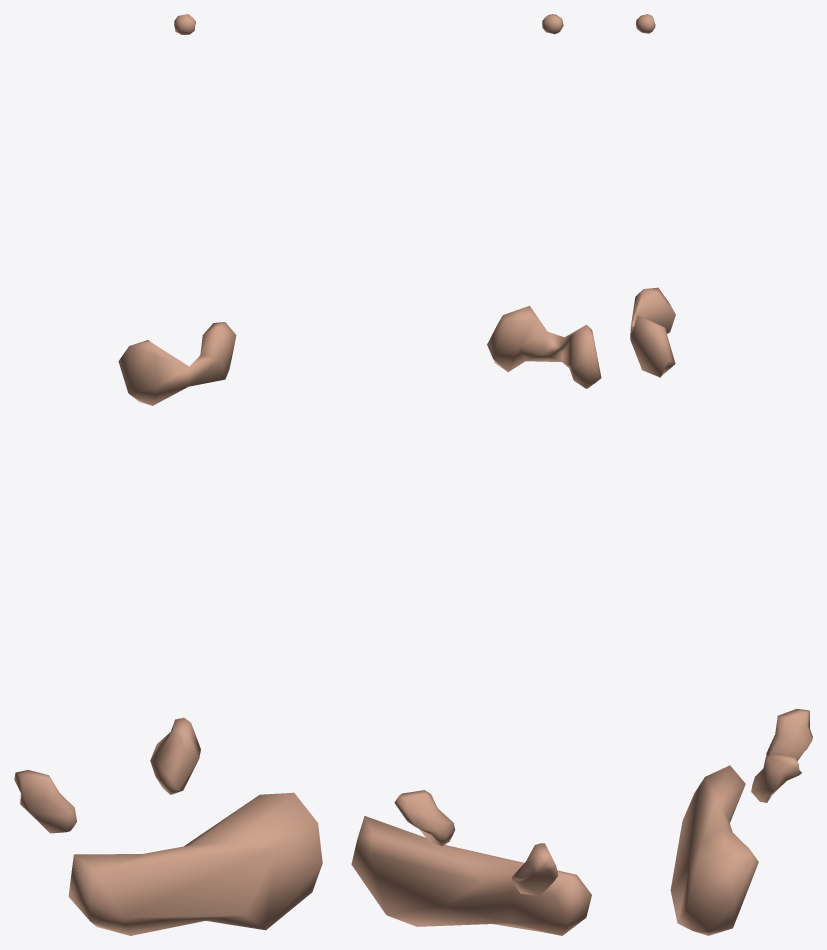
File: pediatric_adolescent_female.endocrine.LOD3.glb
3 views of the same model, side by side, from view 1: azimuth 30°, elevation 25°; view 2: azimuth 150°, elevation 25°; view 3: azimuth 270°, elevation 25° (orthographic). The views are drawn at different scales.
Visible parts, largest first — view 1: PEDIATRIC.ADOLESCENT.FEMALE.ENDOCRINE.PANCREAS, PEDIATRIC.ADOLESCENT.FEMALE.ENDOCRINE.THYROID, PEDIATRIC.ADOLESCENT.FEMALE.ENDOCRINE.ADRENAL.L, PEDIATRIC.ADOLESCENT.FEMALE.ENDOCRINE.ADRENAL.R; view 2: PEDIATRIC.ADOLESCENT.FEMALE.ENDOCRINE.PANCREAS, PEDIATRIC.ADOLESCENT.FEMALE.ENDOCRINE.THYROID, PEDIATRIC.ADOLESCENT.FEMALE.ENDOCRINE.ADRENAL.L, PEDIATRIC.ADOLESCENT.FEMALE.ENDOCRINE.ADRENAL.R; view 3: PEDIATRIC.ADOLESCENT.FEMALE.ENDOCRINE.PANCREAS, PEDIATRIC.ADOLESCENT.FEMALE.ENDOCRINE.THYROID, PEDIATRIC.ADOLESCENT.FEMALE.ENDOCRINE.ADRENAL.R, PEDIATRIC.ADOLESCENT.FEMALE.ENDOCRINE.ADRENAL.L.
Part boxes in pixels (x1,y1,x2,y2): PEDIATRIC.ADOLESCENT.FEMALE.ENDOCRINE.PANCREAS: (68, 792, 322, 935); PEDIATRIC.ADOLESCENT.FEMALE.ENDOCRINE.THYROID: (118, 322, 236, 405); PEDIATRIC.ADOLESCENT.FEMALE.ENDOCRINE.ADRENAL.L: (150, 717, 200, 794); PEDIATRIC.ADOLESCENT.FEMALE.ENDOCRINE.ADRENAL.R: (14, 770, 76, 833); PEDIATRIC.ADOLESCENT.FEMALE.ENDOCRINE.PANCREAS: (351, 816, 591, 935); PEDIATRIC.ADOLESCENT.FEMALE.ENDOCRINE.THYROID: (487, 305, 601, 388); PEDIATRIC.ADOLESCENT.FEMALE.ENDOCRINE.ADRENAL.L: (394, 790, 454, 846); PEDIATRIC.ADOLESCENT.FEMALE.ENDOCRINE.ADRENAL.R: (511, 843, 558, 895); PEDIATRIC.ADOLESCENT.FEMALE.ENDOCRINE.PANCREAS: (670, 765, 758, 935); PEDIATRIC.ADOLESCENT.FEMALE.ENDOCRINE.THYROID: (630, 287, 675, 377); PEDIATRIC.ADOLESCENT.FEMALE.ENDOCRINE.ADRENAL.R: (766, 709, 812, 760); PEDIATRIC.ADOLESCENT.FEMALE.ENDOCRINE.ADRENAL.L: (751, 753, 801, 802).
Size of the model in its own units: 0.1306 by 0.4826 by 0.0916.
